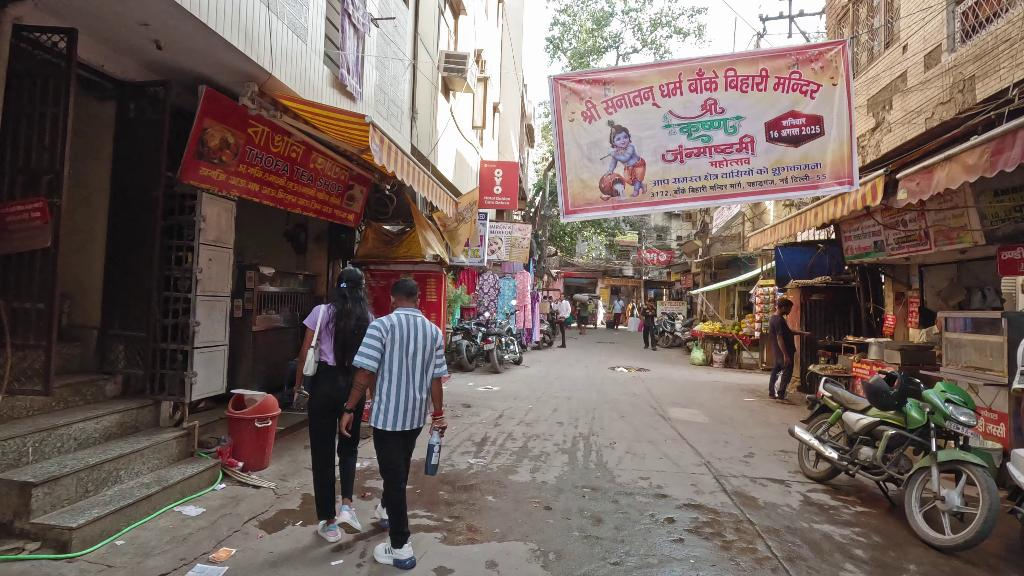dustbin: (225, 387, 282, 470)
garbage: (180, 560, 229, 576), (173, 501, 203, 523), (687, 343, 707, 367), (213, 540, 236, 556)
